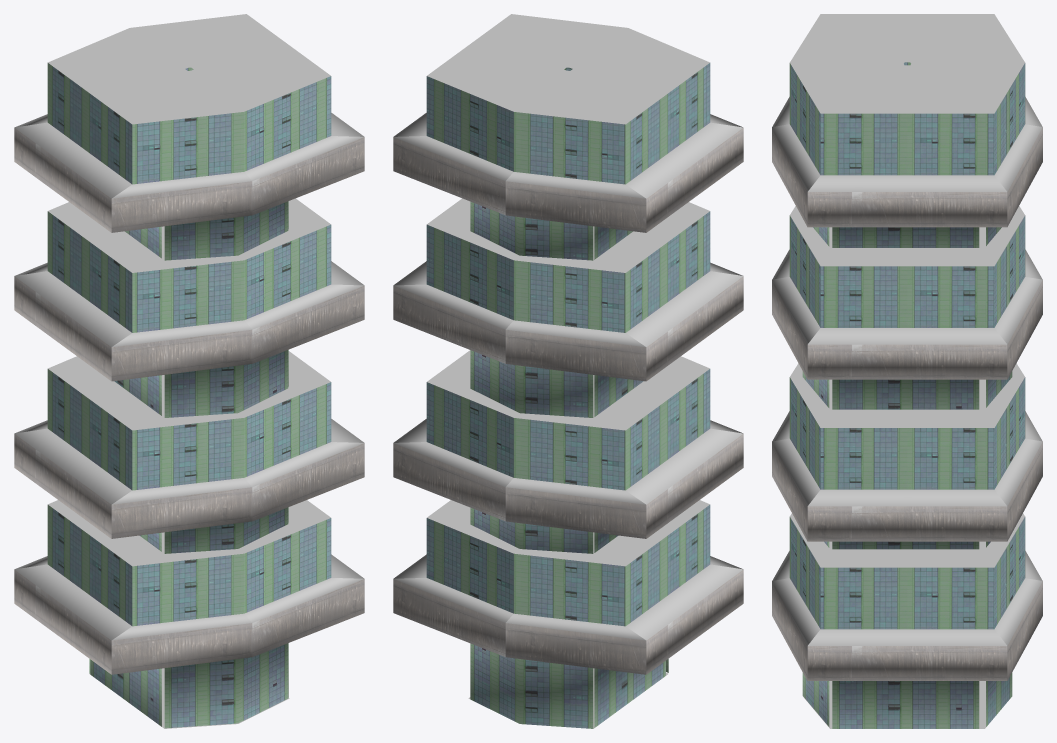
File: WeirdBuilding_Small.fbx
The picture shows the model from 3 angles, left to right: view 1: azimuth 30°, elevation 25°; view 2: azimuth 150°, elevation 25°; view 3: azimuth 270°, elevation 25°; orthographic projection. The views are drawn at different scales.
Visible parts, largest first — view 1: pCube395; view 2: pCube395; view 3: pCube395.
Part boxes in pixels (<box>): pCube395: <box>14,14,364,728</box>; pCube395: <box>393,14,743,728</box>; pCube395: <box>772,14,1042,728</box>.
Size of the model in its own units: 7.59 by 17.68 by 6.84.
